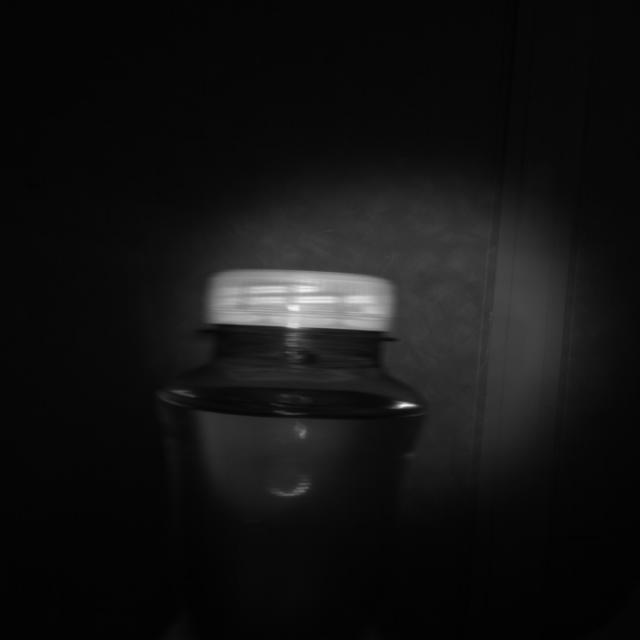Good: (206, 271, 397, 335)
